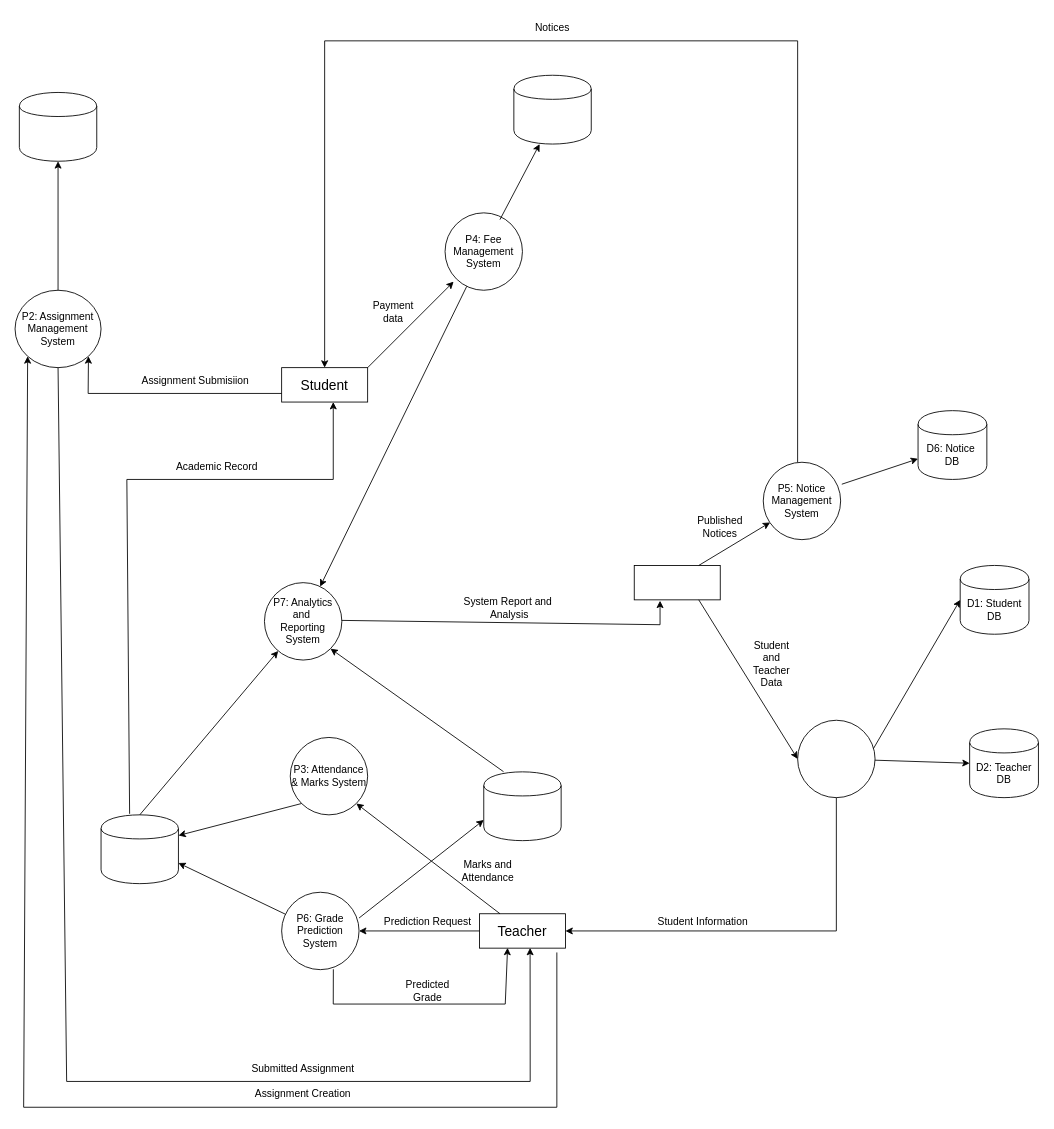
Image size: 1054x1129. Some labels were removed from this diagram. The centre of each missing label's shape, as x and y in pixels:
"Admin" goes at pixel 676 582.
"D3: Assignment DB" goes at pixel 57 126.
"D4: Marks and Attendence DB" goes at pixel 139 849.
"D5: Fee Record DB" goes at pixel 552 109.
"D7: Prediction DB" goes at pixel 522 806.
"P1: User Management System" goes at pixel 836 758.
